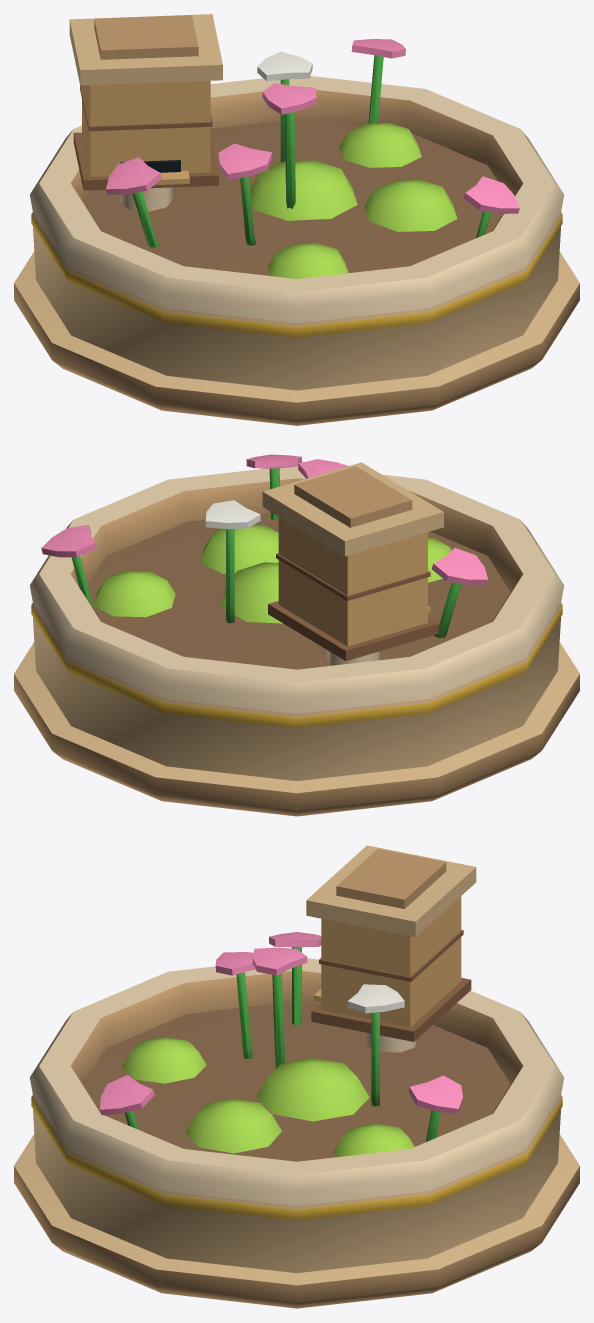
File: pollinator-garden.lod1.glb
3 renders of one model, top to bottom at view 1: azimuth 30°, elevation 25°; view 2: azimuth 150°, elevation 25°; view 3: azimuth 270°, elevation 25°, orthographic.
Parts seen in each view (by area): view 1: pollinator-garden_lod1; view 2: pollinator-garden_lod1; view 3: pollinator-garden_lod1.
Part boxes in pixels (box(x1,y1,x2,y2)): pollinator-garden_lod1: box(14, 14, 579, 425); pollinator-garden_lod1: box(14, 454, 579, 816); pollinator-garden_lod1: box(14, 845, 579, 1308).
Bounding box in the file's own units: 1.8 × 0.946 × 1.8.
